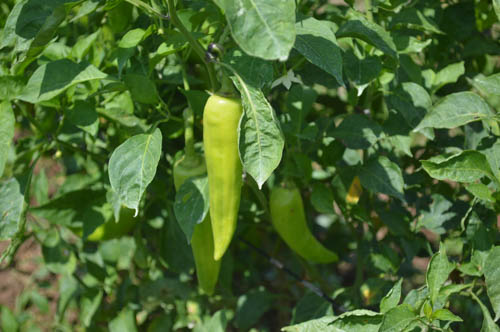ChiliPepper: (199, 97, 251, 267), (177, 156, 224, 299), (272, 178, 337, 266)
